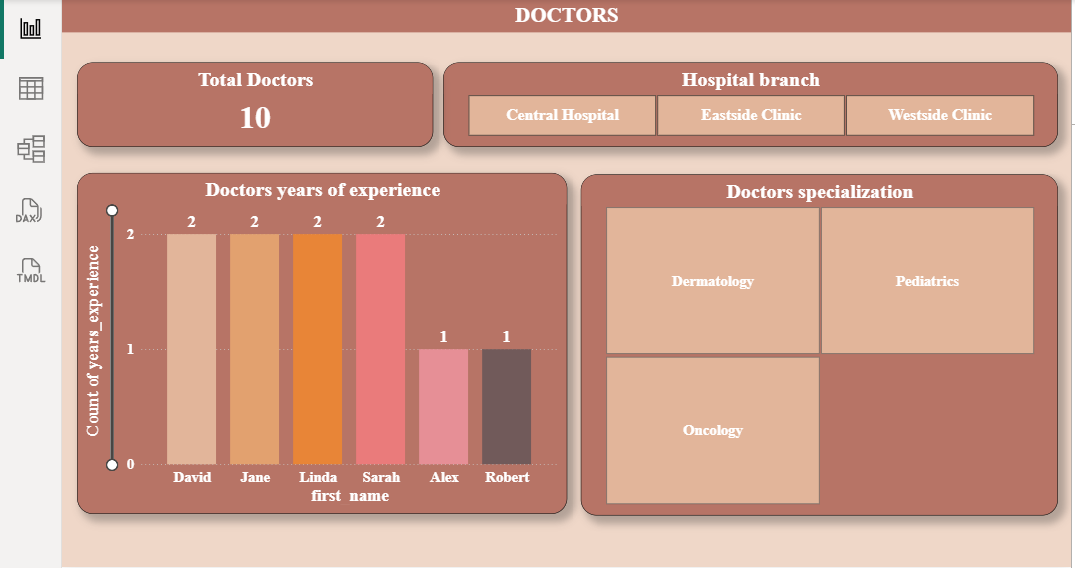

The page's visual inventory and layout, read from the dashboard file:
{"tool":"powerbi","page":{"name":" Page 3","canvas":[1280,720],"ordinal":2},"visuals":[{"type":"textbox","box":[0,0,1280.3,42.5],"z":0},{"type":"slicer","title":"Hospital branch","fields":{"Values":["Doctors.hospital_branch"]},"box":[483,79.6,779.4,107],"z":1000},{"type":"columnChart","title":"Doctors years of experience","fields":{"Category":["Doctors.first_name"],"Y":["CountNonNull(Doctors.years_experience)"]},"box":[19.2,220.9,621.6,432.2],"z":2000},{"type":"card","title":"Total Doctors","fields":{"Values":["CountNonNull(Doctors.doctor_id)"]},"box":[19.2,79.6,451.5,107],"z":3000},{"type":"slicer","title":"Doctors specialization","fields":{"Values":["Doctors.specialization"]},"box":[657.3,222.3,605.1,432.2],"z":4000}]}

Visuals, with their boxes on the page's 1280x720 design canvas (x1, y1, x2, y2). These are canvas units, not pixel positions in the 1075x568 screenshot, which may show the page scaled, cropped or inside an application window:
textbox: box=[0, 0, 1280, 42]
"Hospital branch" slicer: box=[483, 80, 1262, 187]
"Doctors years of experience" columnChart: box=[19, 221, 641, 653]
"Total Doctors" card: box=[19, 80, 471, 187]
"Doctors specialization" slicer: box=[657, 222, 1262, 654]
